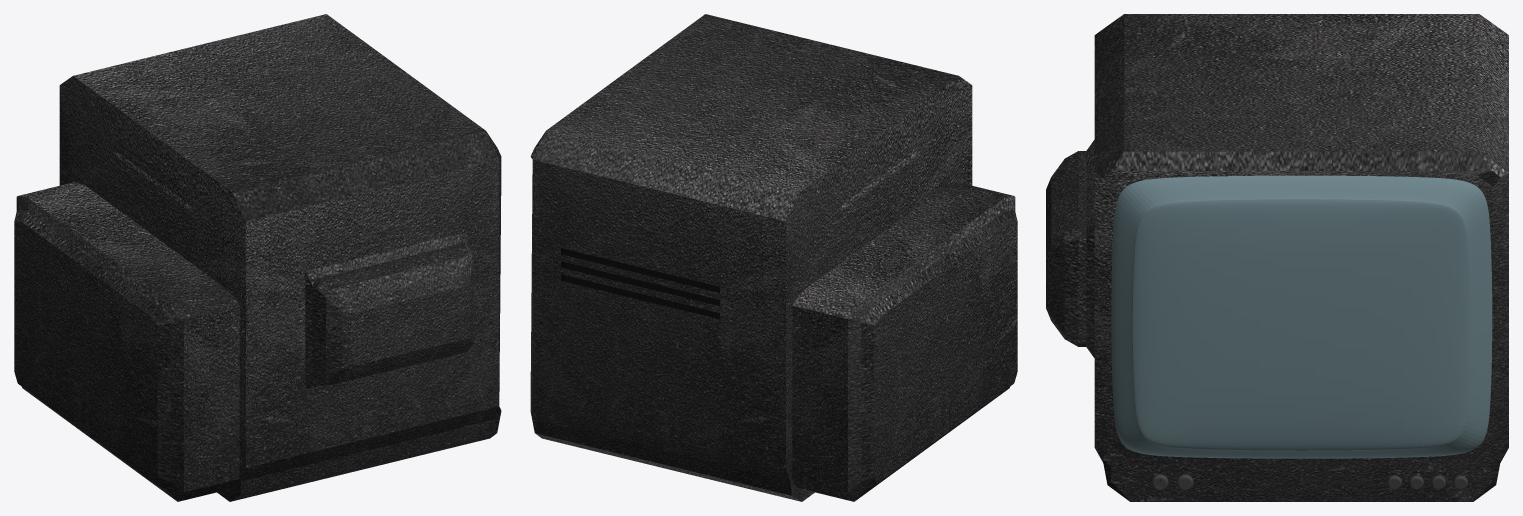
3 renders of one model, left to right at view 1: azimuth 30°, elevation 25°; view 2: azimuth 150°, elevation 25°; view 3: azimuth 270°, elevation 25°, orthographic. The views are drawn at different scales.
Visible parts, largest first — view 1: TV; view 2: TV; view 3: Tela, TV, Botao.
Part boxes in pixels (<box>): TV: <box>14,14,501,501</box>; TV: <box>530,14,1017,501</box>; Tela: <box>1111,175,1492,458</box>; TV: <box>1046,14,1508,501</box>; Botao: <box>1387,475,1467,489</box>.
Size of the model in its own units: 331 by 287 by 347.
Materials: 4 (1 with a texture image).
